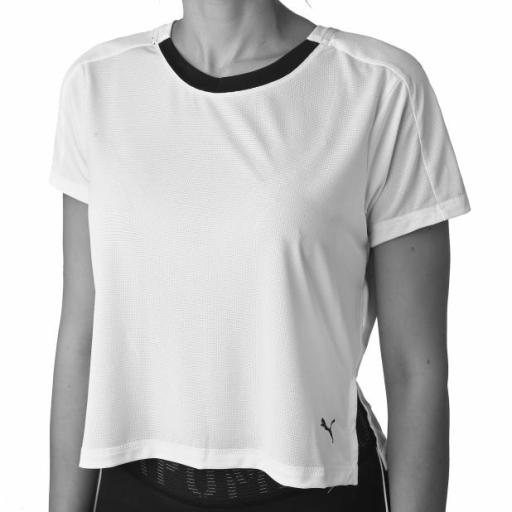Puma: (316, 413, 342, 445)
